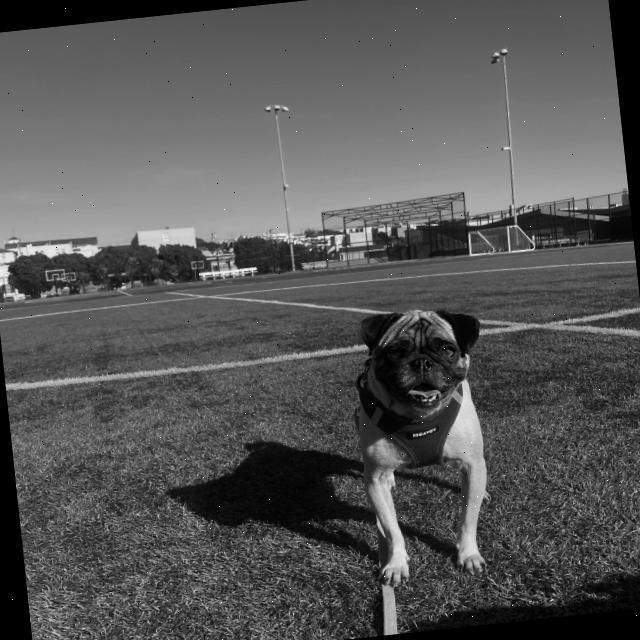pug_dog: (344, 288, 496, 434)
